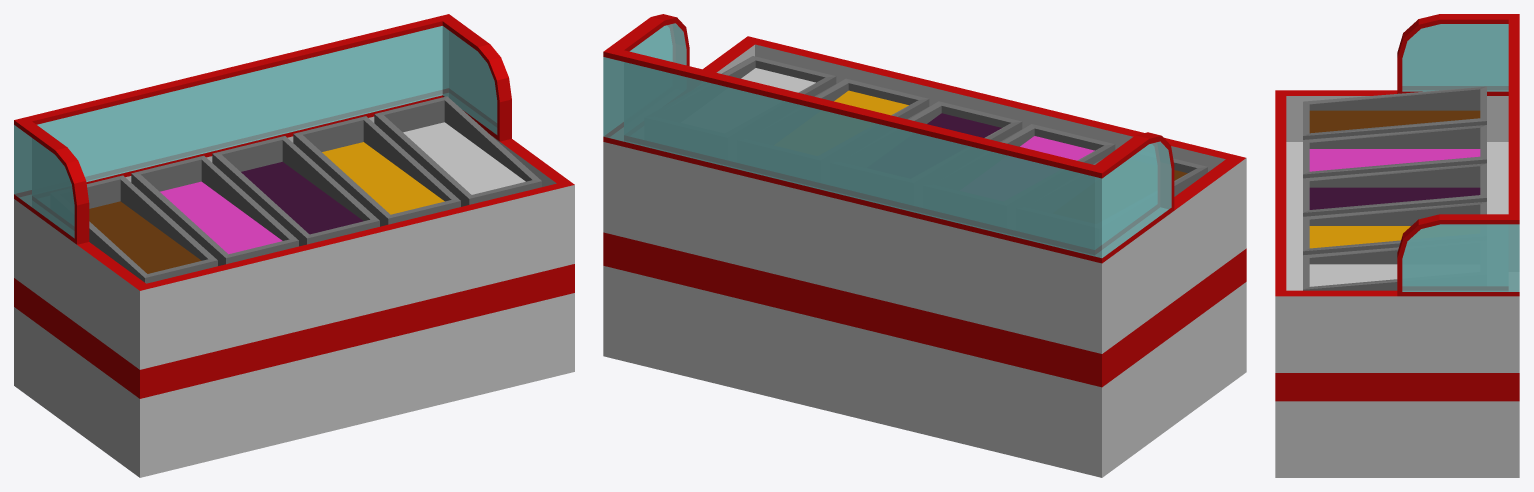
File: icecream.fbx
3 views of the same model, side by side, from view 1: azimuth 30°, elevation 25°; view 2: azimuth 150°, elevation 25°; view 3: azimuth 270°, elevation 25° (orthographic). The views are drawn at different scales.
Visible parts, largest first — view 1: icecream; view 2: icecream; view 3: icecream.
Part boxes in pixels (box(x1,y1,x2,y2)): icecream: box(14, 14, 574, 477); icecream: box(603, 14, 1246, 477); icecream: box(1275, 14, 1519, 477).
Bounding box in the file's own units: 161 × 93.96 × 80.74.
